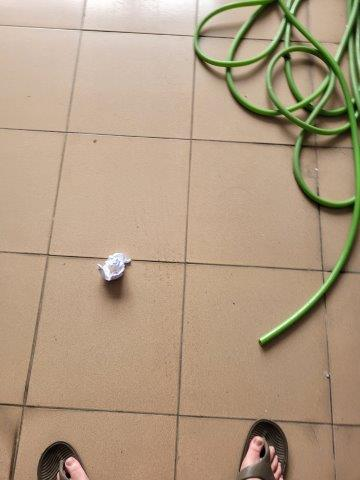kertas: (89, 252, 133, 285)
